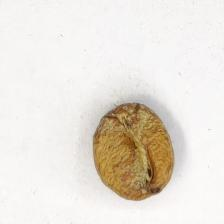NG: (99, 104, 166, 196)
